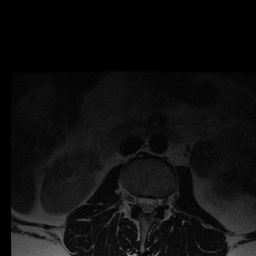CCS_stenosis: (144, 188, 151, 220)
LFS_normal: (158, 187, 166, 213)
LLS_normal: (151, 188, 158, 216)
RFS_normal: (128, 185, 136, 212)
RLS_normal: (136, 188, 144, 215)
